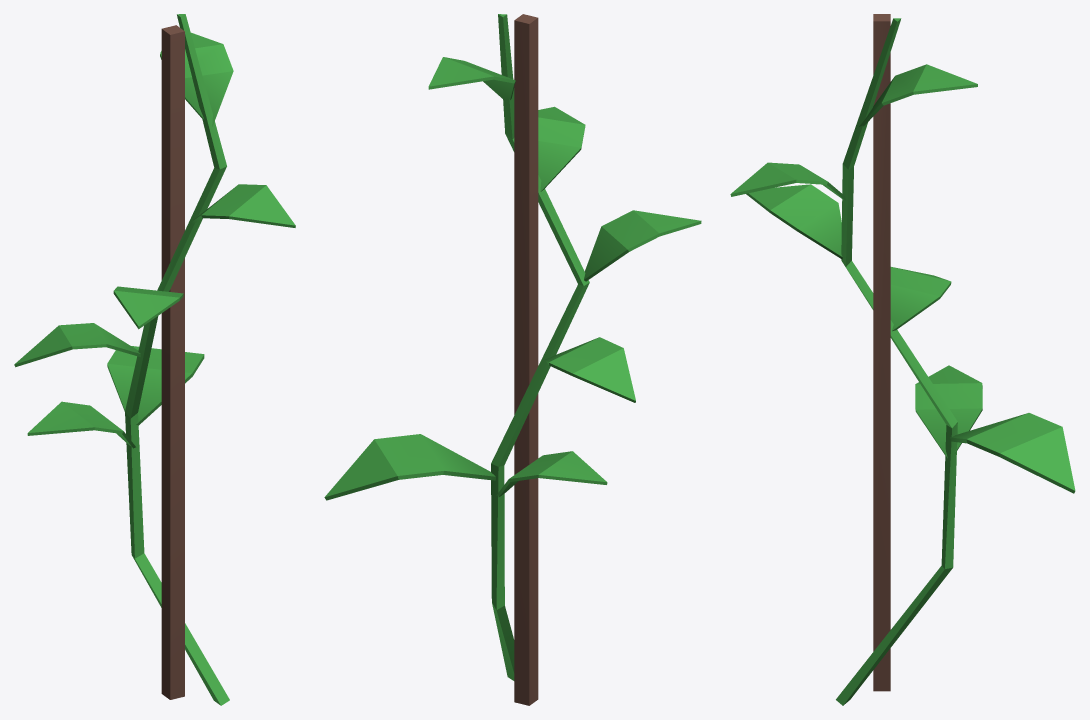
File: plant_009.glb
The picture shows the model from 3 angles, left to right: view 1: azimuth 30°, elevation 25°; view 2: azimuth 150°, elevation 25°; view 3: azimuth 270°, elevation 25°; orthographic projection. The views are drawn at different scales.
Visible parts, largest first — view 1: plant_009; view 2: plant_009; view 3: plant_009.
Boxes of the visible parts, left/top/right/bottom form: plant_009: left=14, top=14, right=295, bottom=705; plant_009: left=324, top=14, right=701, bottom=705; plant_009: left=730, top=14, right=1075, bottom=705.
Size of the model in its own units: 0.6589 by 1.8 by 0.8353.
1 material, 1 textured.
